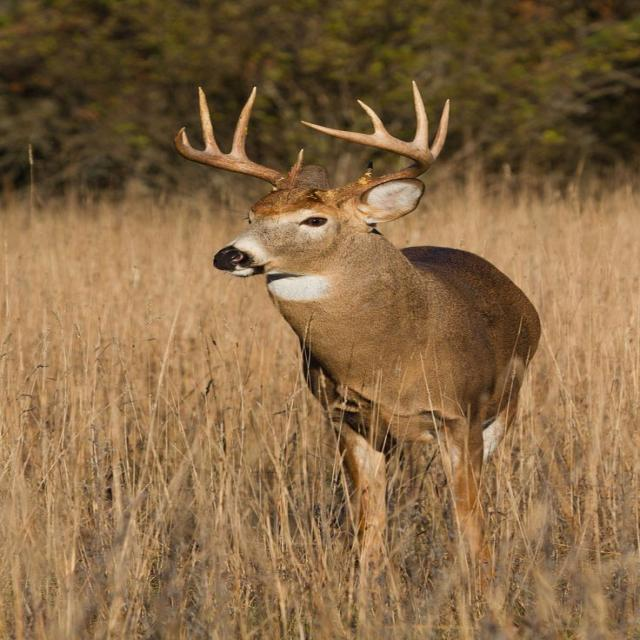L-F: (300, 120, 435, 208)
L-G1: (358, 161, 374, 182)
L-G2: (430, 98, 450, 159)
L-G3: (412, 80, 429, 149)
L-G4: (356, 99, 392, 136)
R-F: (173, 127, 295, 189)
R-G1: (286, 148, 304, 180)
R-G2: (226, 86, 257, 162)
R-G3: (198, 86, 223, 154)
